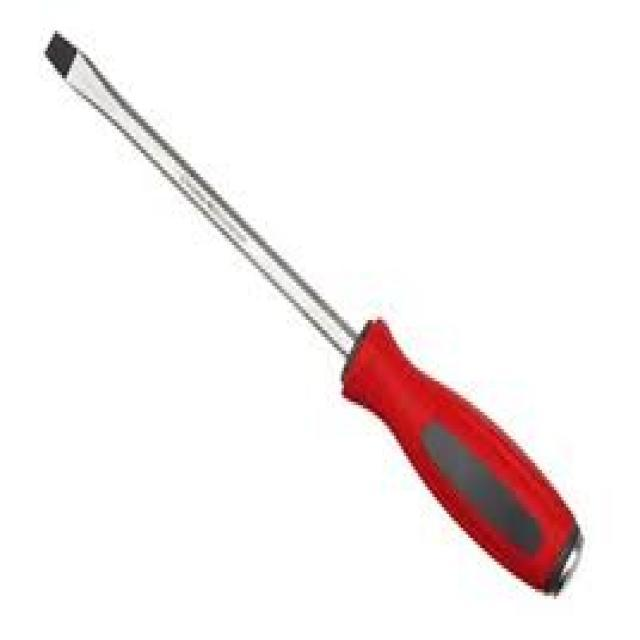screwdriver: (39, 29, 586, 598)
